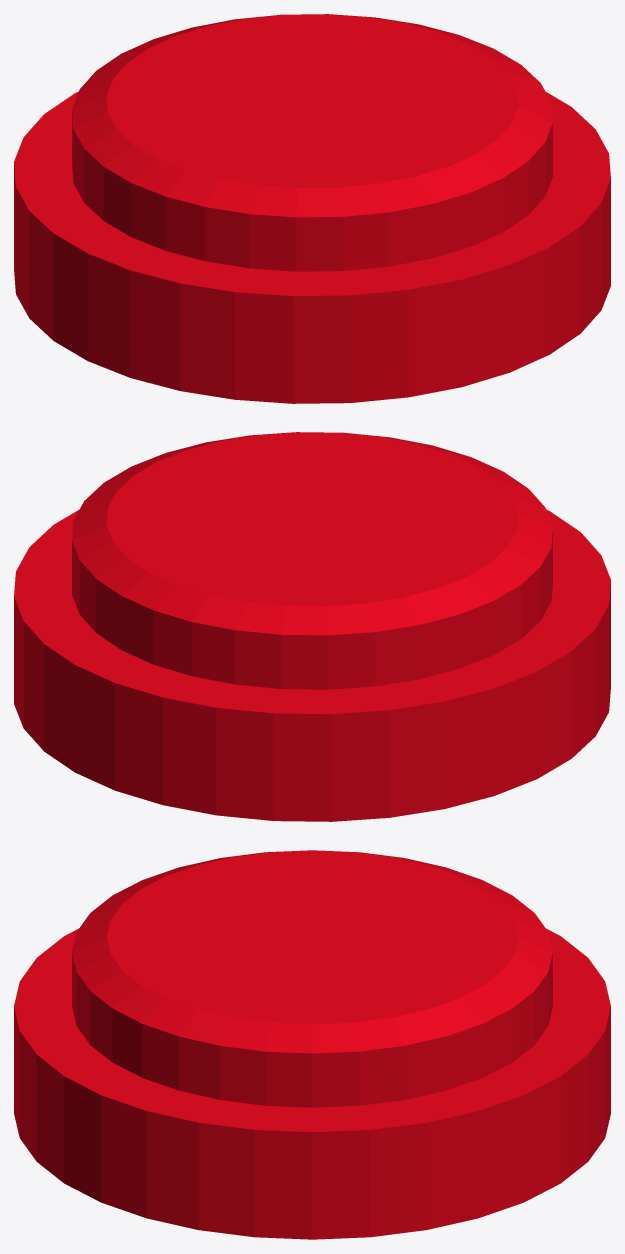
File: button.glb
The picture shows the model from 3 angles, top to bottom: view 1: azimuth 30°, elevation 25°; view 2: azimuth 150°, elevation 25°; view 3: azimuth 270°, elevation 25°; orthographic projection.
Visible parts, largest first — view 1: Cylinder; view 2: Cylinder; view 3: Cylinder.
Boxes of the visible parts, x1=… form: Cylinder: x1=14, y1=14, x2=610, y2=403; Cylinder: x1=14, y1=432, x2=610, y2=821; Cylinder: x1=14, y1=850, x2=610, y2=1239.
Size of the model in its own units: 2 by 0.6511 by 2.
